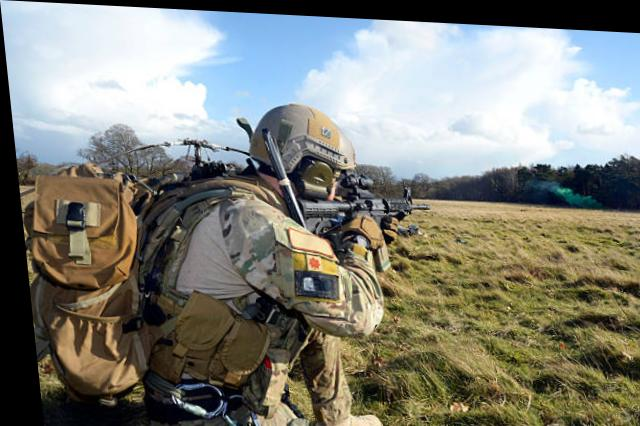other: (110, 92, 400, 424)
